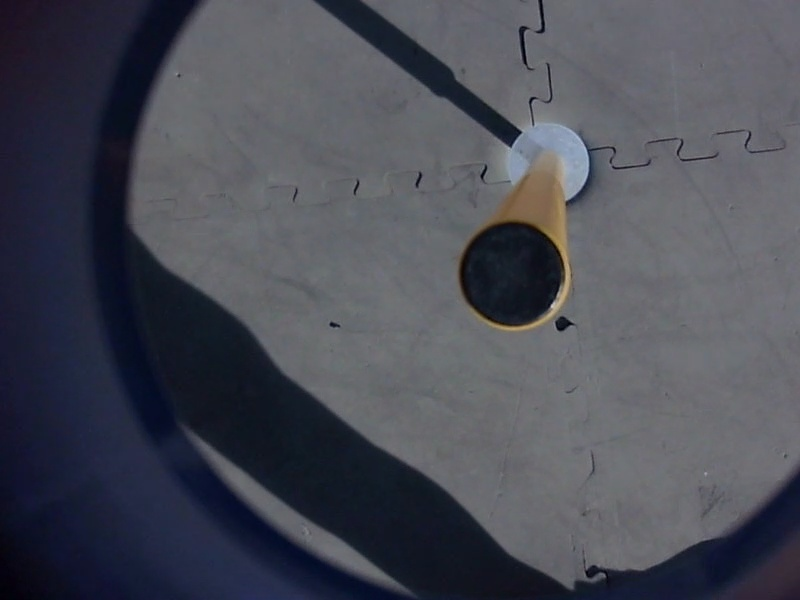tip: (450, 214, 572, 337)
